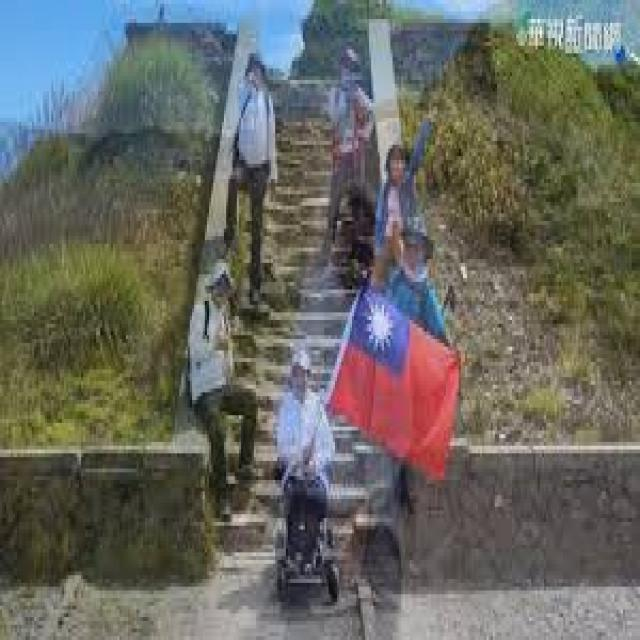wheelchairs: (267, 453, 354, 598)
